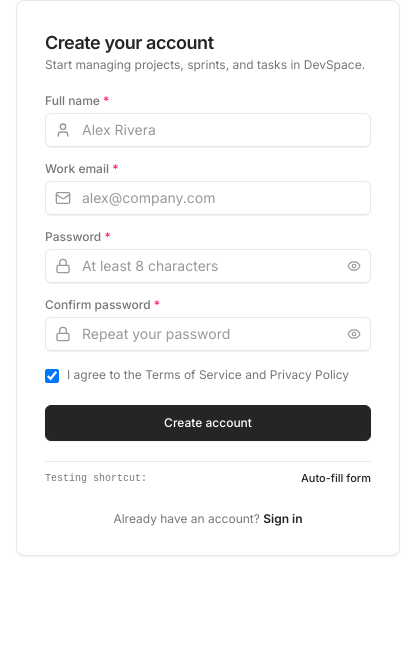
Test case: Authentication Pages & Workflows › RegisterPage › validates password requirements on empty submit
Click the button "Create account".
click(208, 423)  # box [45,405,371,441]
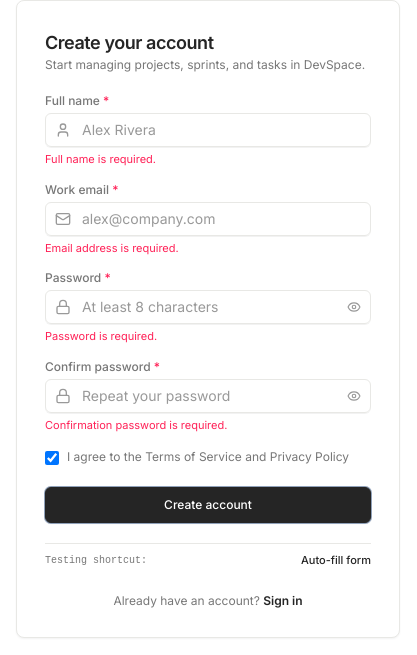
Check: the text "Full name is required." is shown, box [45,152,156,166]
